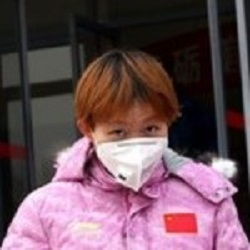mask: (89, 129, 168, 192)
